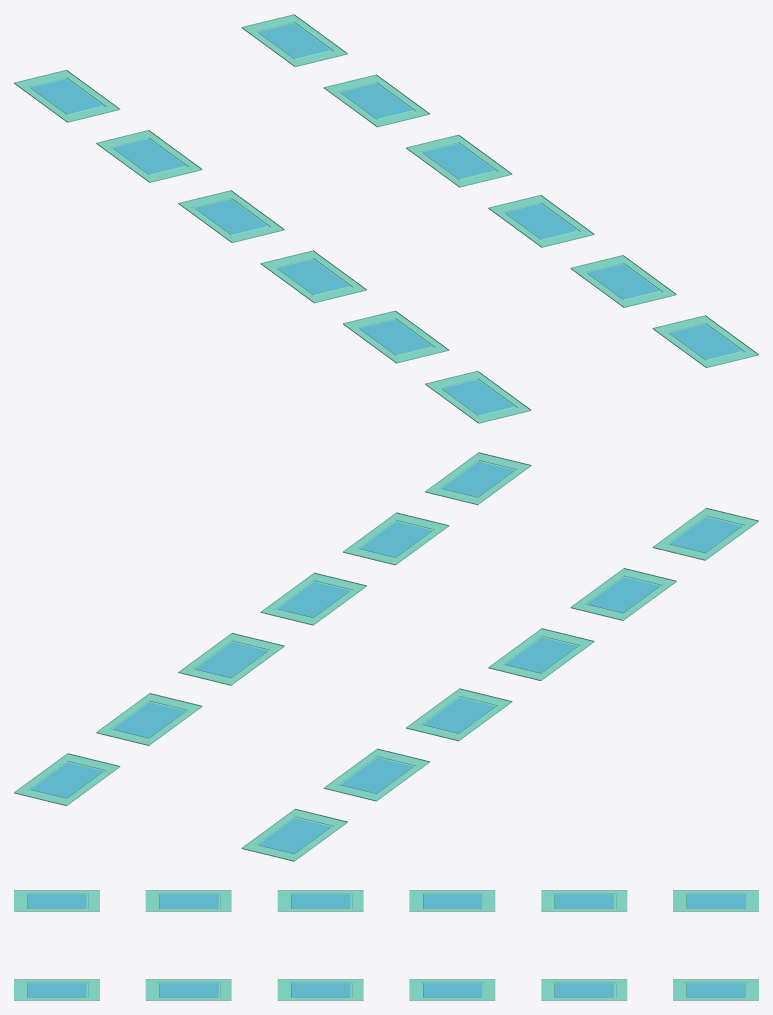
File: lightA.fbx
The picture shows the model from 3 angles, top to bottom: view 1: azimuth 30°, elevation 25°; view 2: azimuth 150°, elevation 25°; view 3: azimuth 270°, elevation 25°; orthographic projection. The views are drawn at different scales.
Visible parts, largest first — view 1: lightA; view 2: lightA; view 3: lightA.
Boxes of the visible parts, left/top/right/bottom form: lightA: left=14, top=14, right=758, bottom=423; lightA: left=14, top=452, right=758, bottom=861; lightA: left=14, top=890, right=758, bottom=1000.
Bounding box in the file's own units: 488 × 2.69 × 1400.
